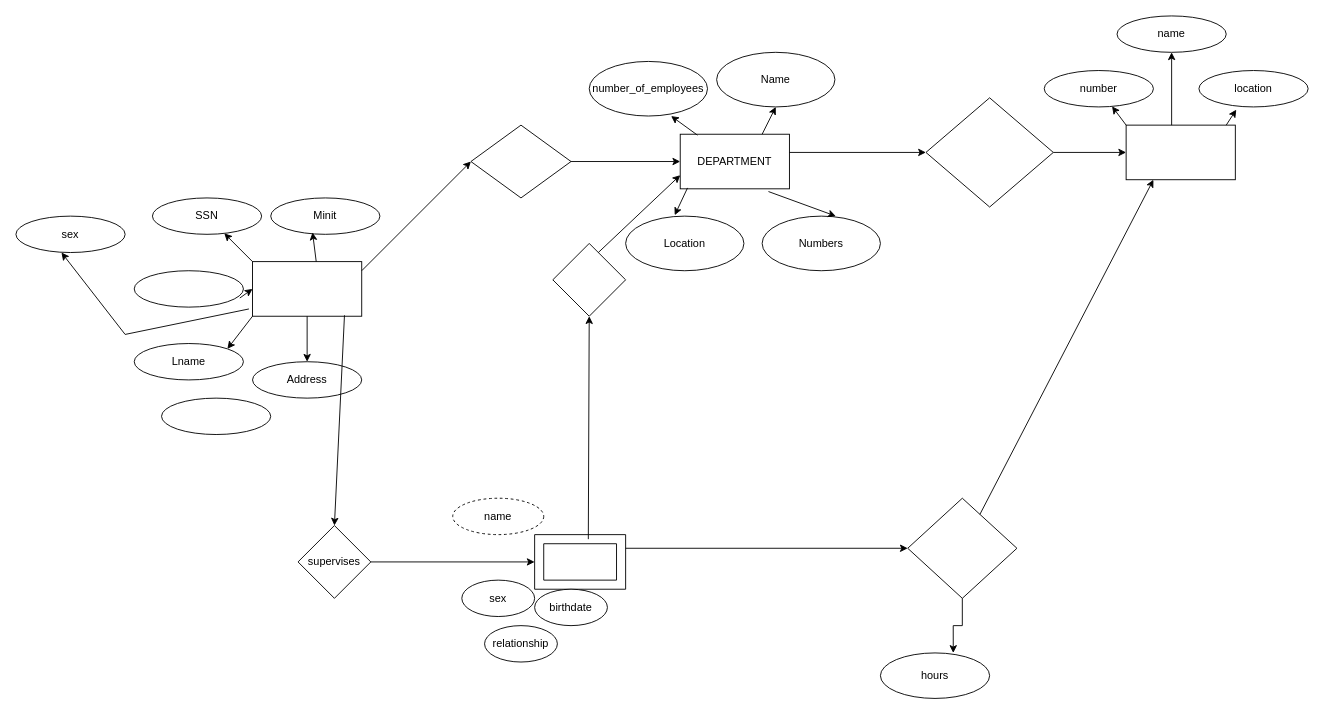
Some shapes in this 1324 by 714 pixel diagram are drawn without their labels. The box of each missing label's shape, as (x1, y1, x2, y2) in pixels:
controls: (925, 97, 1053, 207)
dependent: (534, 534, 626, 589)
EMPLOYEE: (252, 261, 362, 316)
Fname: (133, 270, 243, 307)
manages: (552, 243, 626, 316)
PROJECT: (1125, 124, 1235, 180)
salary: (161, 397, 271, 435)
works_for: (470, 124, 571, 198)
works_on: (907, 497, 1017, 598)
